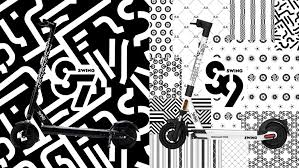kick_body: (200, 129, 257, 140), (43, 128, 108, 137)
kick_handler: (189, 19, 212, 37), (35, 19, 56, 37)
kick_wheel: (158, 120, 186, 149), (260, 120, 287, 149), (11, 123, 38, 148), (112, 121, 136, 148)
